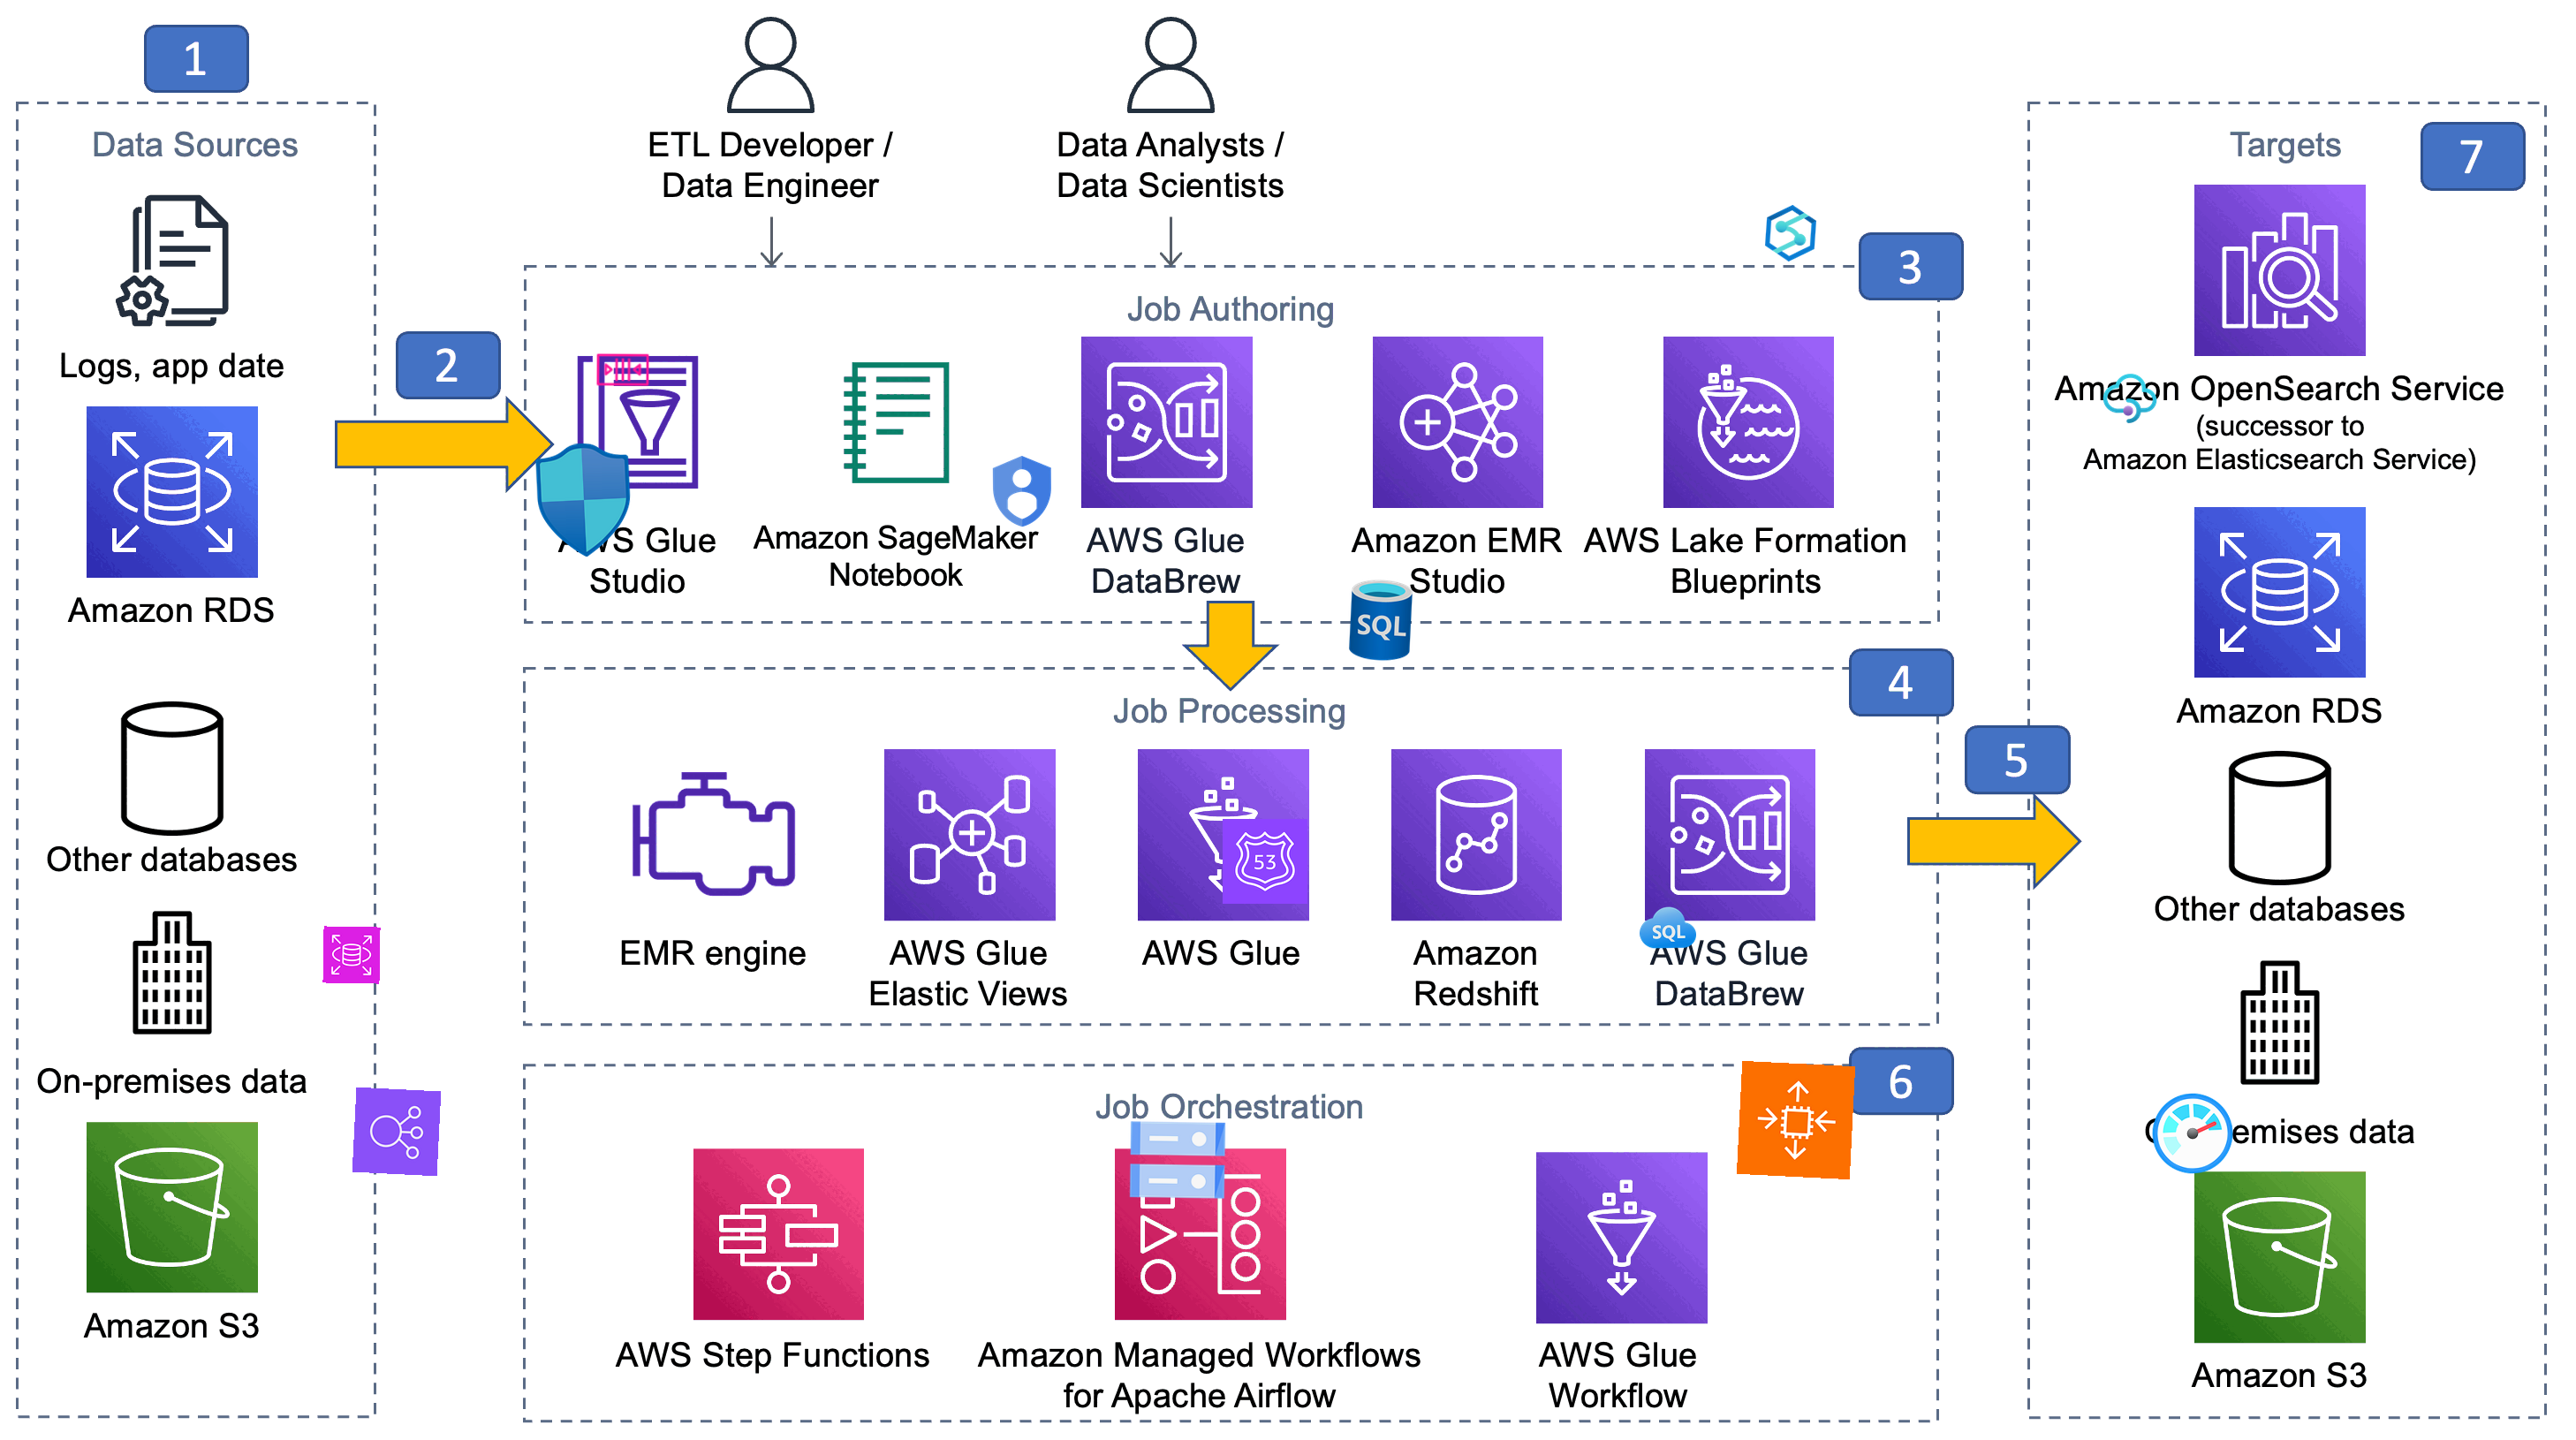aws_amazon_ec2_auto_scaling: (1736, 1060, 1856, 1180)
aws_amazon_rds: (322, 925, 380, 984)
aws_amazon_route_53: (1223, 817, 1307, 904)
aws_elastic_load_balancing: (352, 1086, 442, 1176)
aws_simple_queue_service_queue: (594, 340, 651, 398)
azure_api_management_services: (2100, 370, 2158, 428)
azure_monitor: (2148, 1088, 2238, 1178)
azure_network_security_groups: (525, 440, 644, 559)
azure_sql: (1638, 899, 1697, 957)
azure_sql_database: (1336, 575, 1426, 665)
azure_synapse_analytics: (1760, 202, 1822, 264)
gcp_cloud_storage: (1120, 1102, 1235, 1217)
gcp_identity_and_access_management: (978, 448, 1065, 534)
